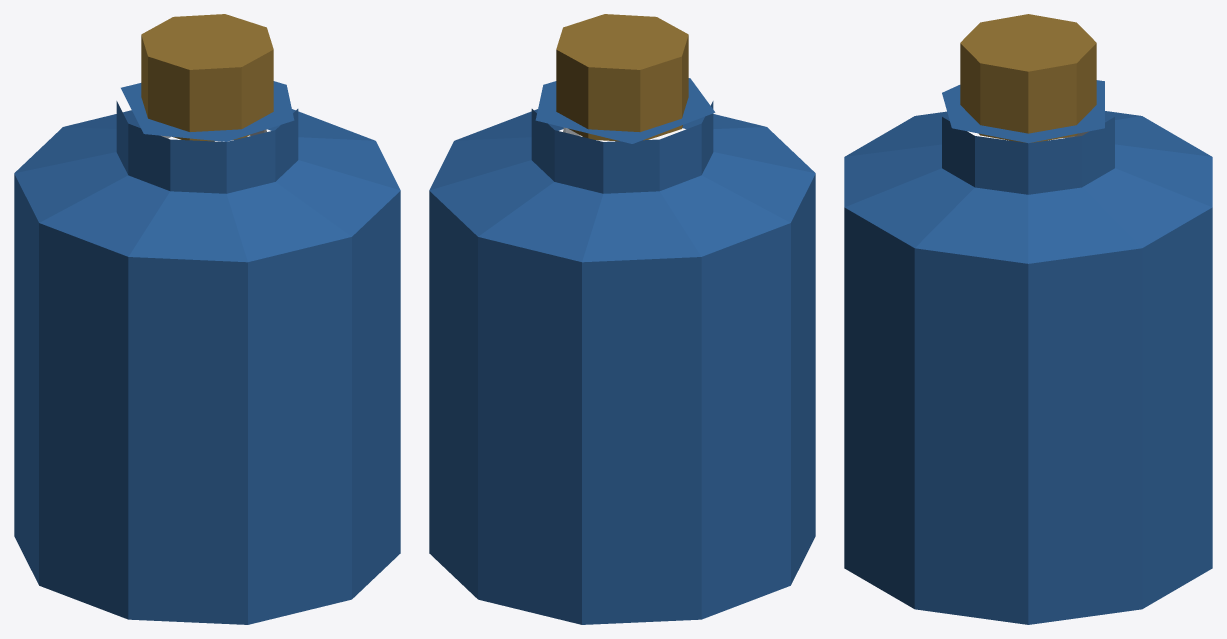
File: raava.lod.glb
3 views of the same model, side by side, from view 1: azimuth 30°, elevation 25°; view 2: azimuth 150°, elevation 25°; view 3: azimuth 270°, elevation 25° (orthographic).
Visible parts, largest first — view 1: m; view 2: m; view 3: m.
Part boxes in pixels (x1,y1,x2,y2): m: [14, 14, 400, 624]; m: [429, 14, 815, 624]; m: [844, 14, 1212, 624].
Bounding box in the file's own units: 0.068 × 0.097 × 0.0647.
